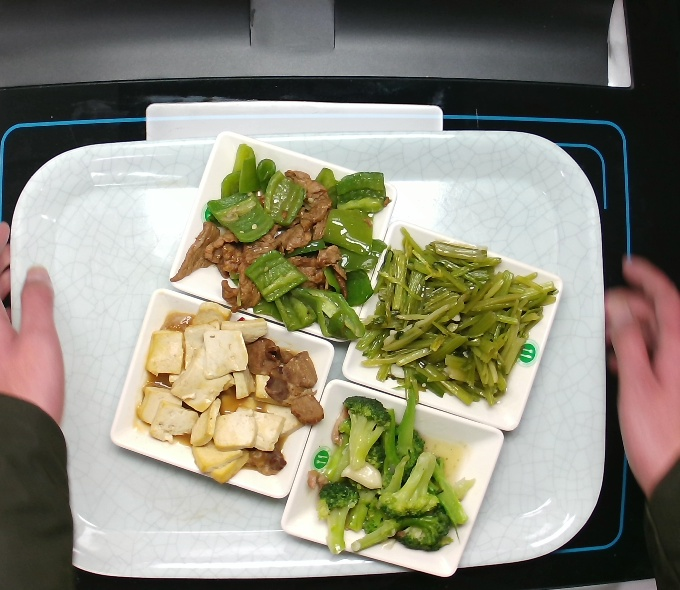wcq-DouFuRouPian: (128, 309, 329, 492)
wcq-QinCai: (371, 238, 550, 399)
wcq-QingJiaoChaoRou: (167, 149, 383, 340)
wcq-XiLanHua: (310, 392, 474, 563)
